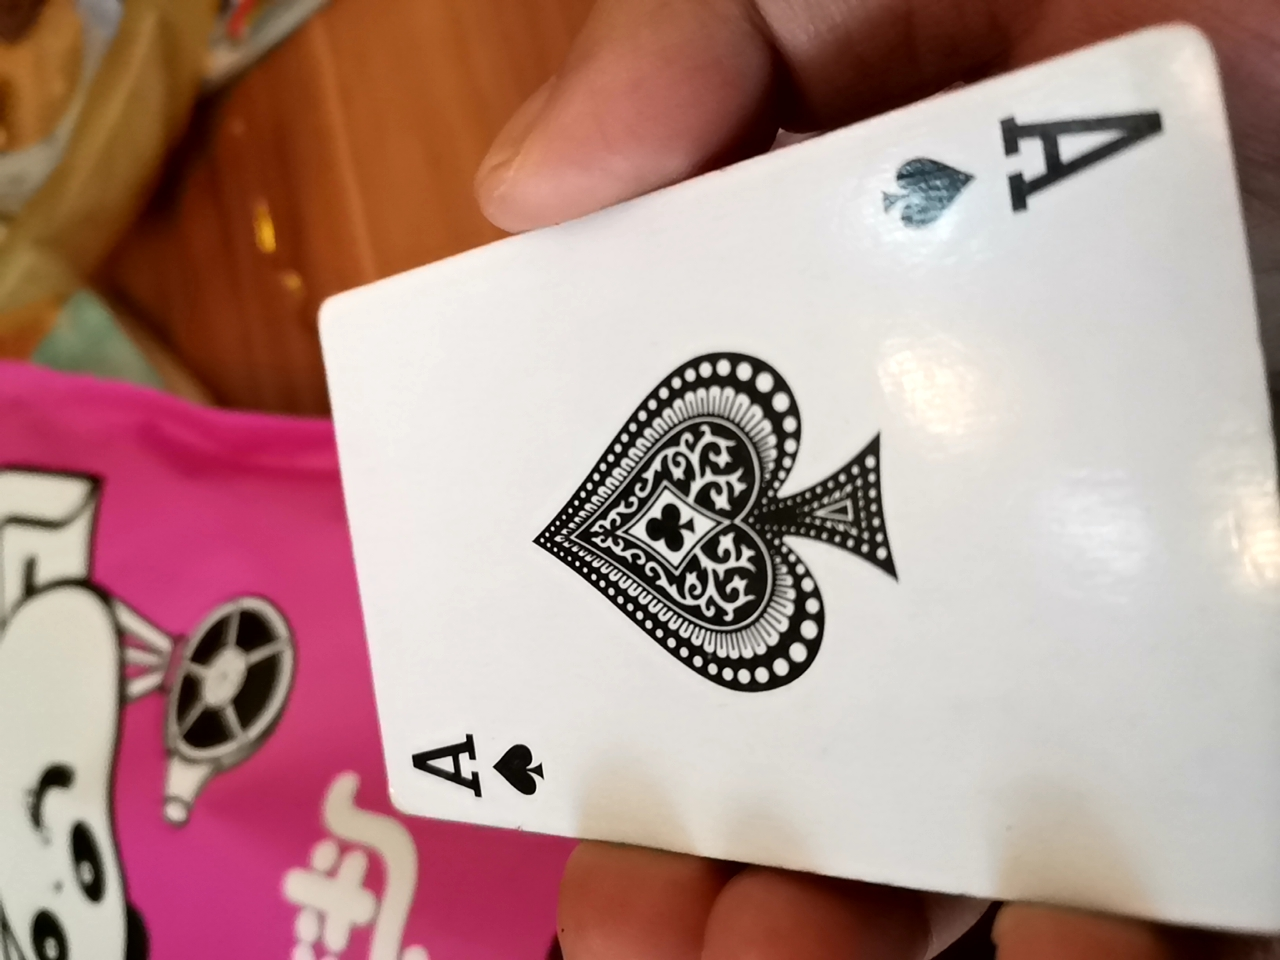ht a: (292, 50, 1259, 943)
